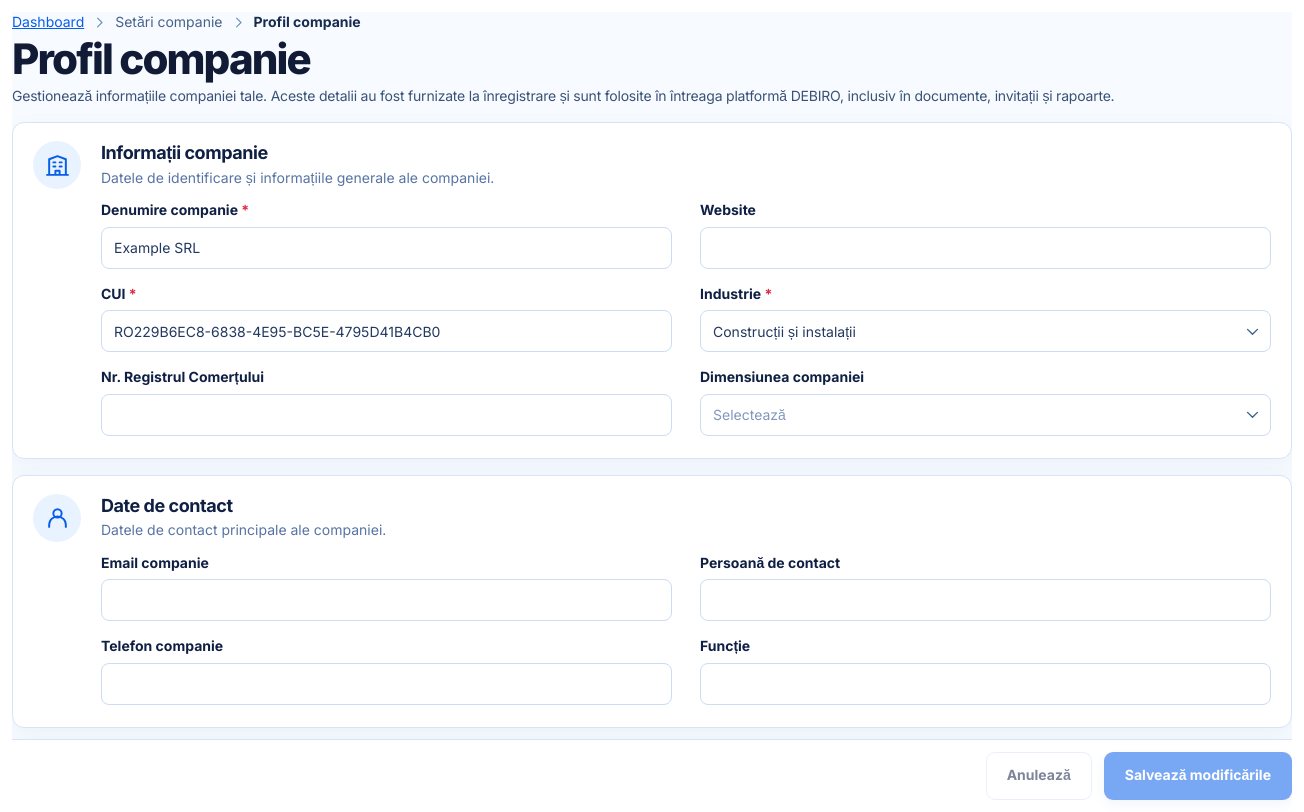
canonical company profile › renders the three canonical sections, shared options and an atomic Save/Cancel form
Check: the element "Informații companie" is shown, box [12, 122, 1292, 459]
Check: the element "Date de contact" is shown, box [12, 475, 1292, 728]
Replace the text in the field labelled "Denumire companie *" with "Draft" at (386, 248), box [101, 227, 672, 269]
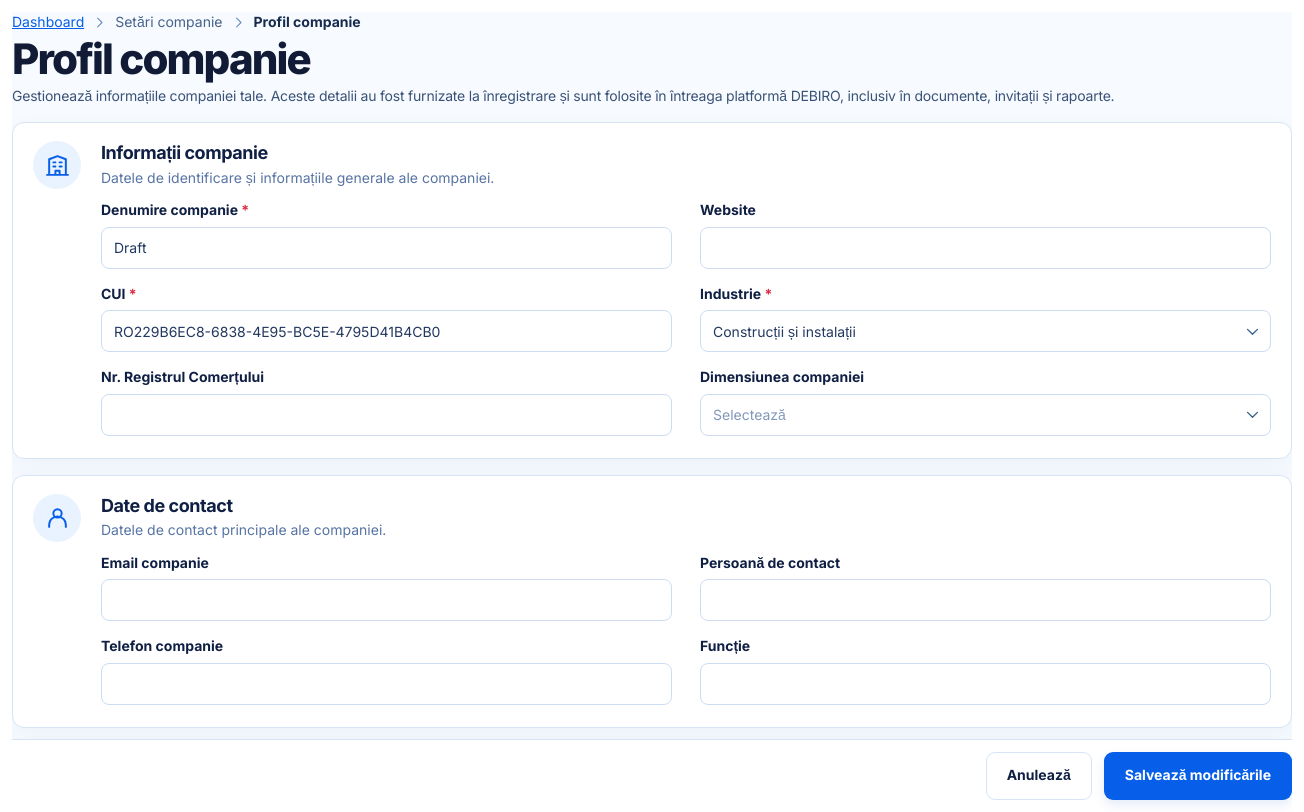
Check: the button "Salvează modificările" is enabled, box [1104, 752, 1292, 800]
Click the button "Anulează".
click(1039, 776)  # box [986, 752, 1092, 800]
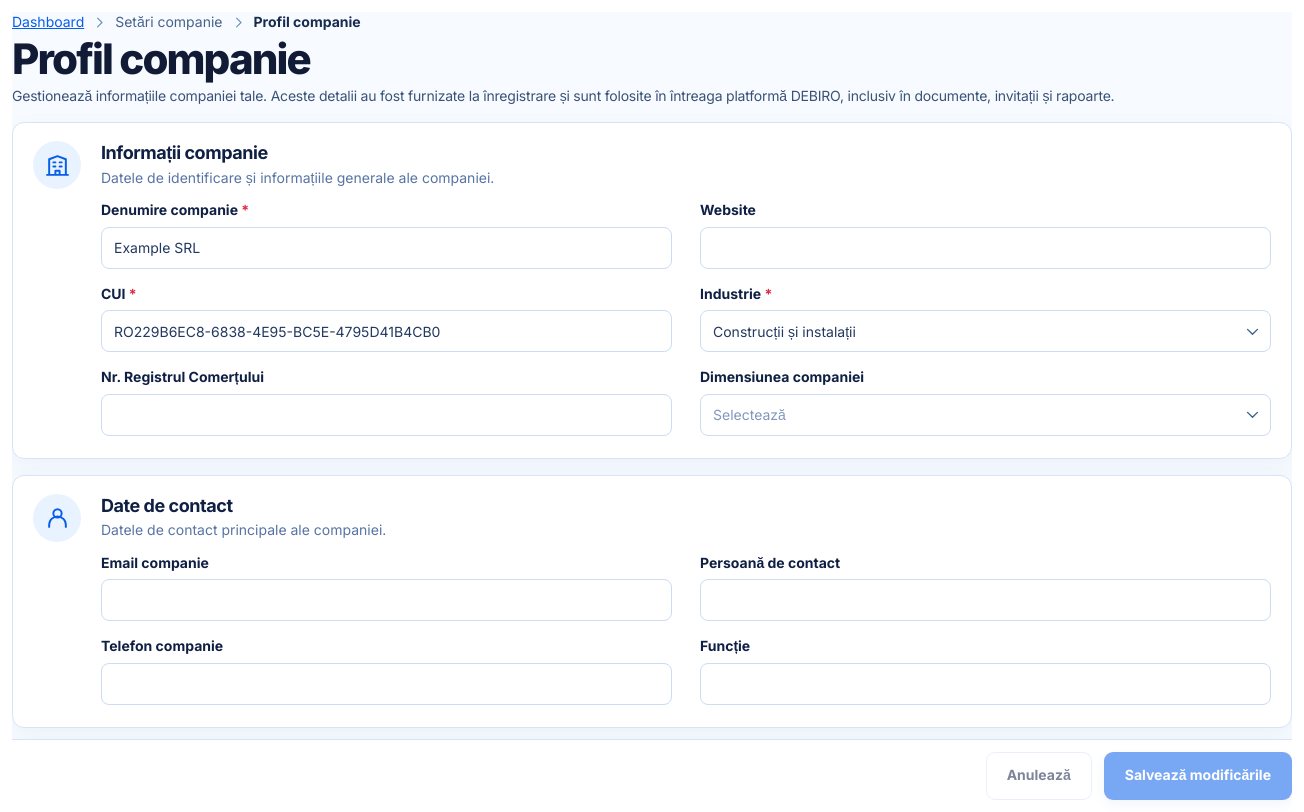
Check: the field labelled "Denumire companie *" holds "Example SRL"
Replace the text in the field labelled "Denumire companie *" with "Saved" at (386, 248), box [101, 227, 672, 269]
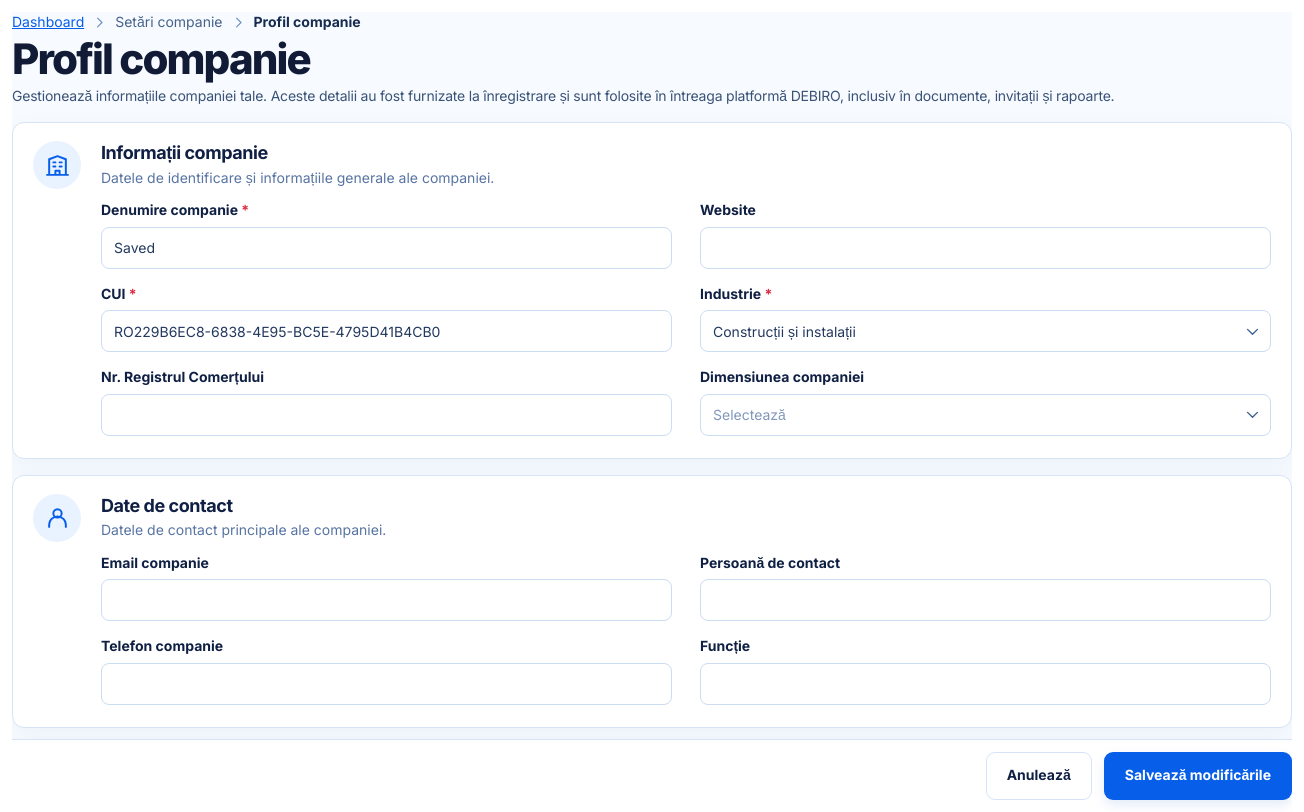
Click the button "Salvează modificările".
click(1198, 776)  # box [1104, 752, 1292, 800]
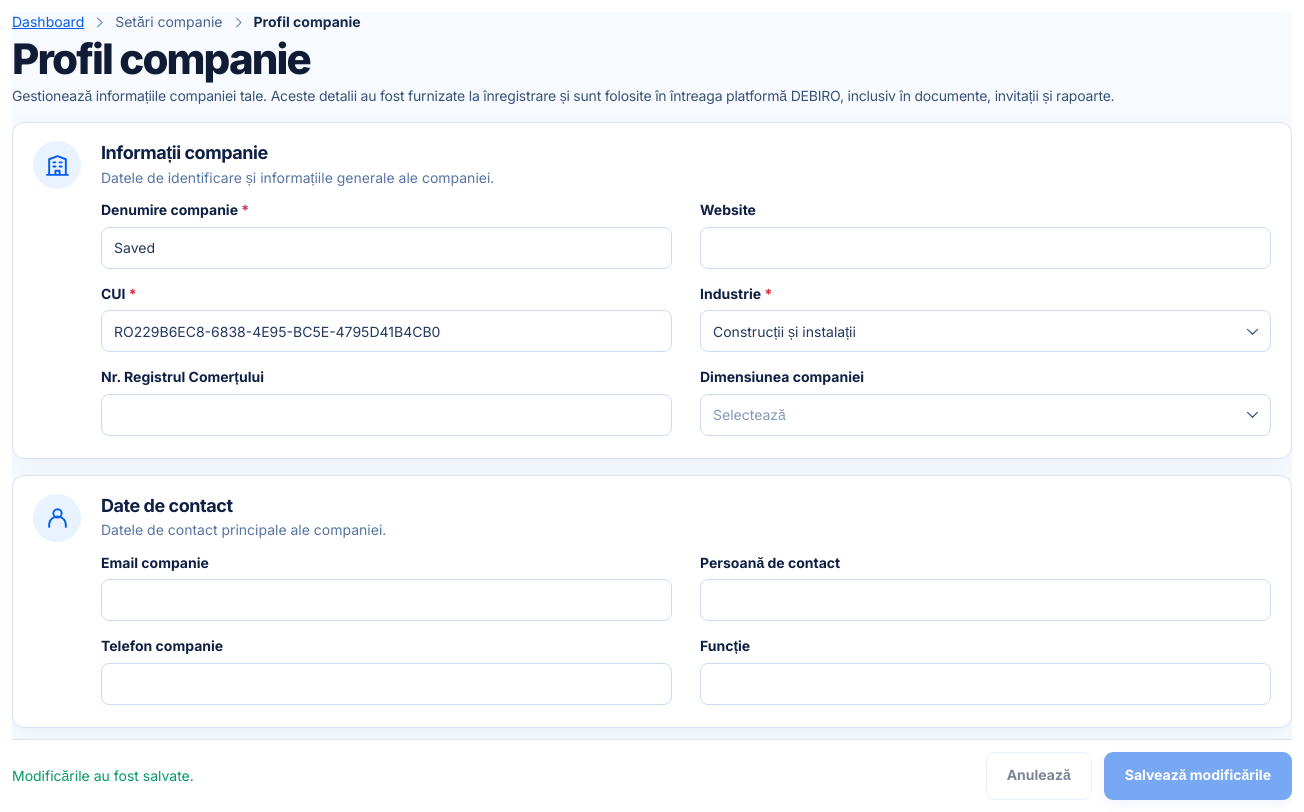
Check: the text "Modificările au fost salvate." is shown, box [12, 766, 194, 786]
Check: the button "Salvează modificările" is disabled, box [1104, 752, 1292, 800]
